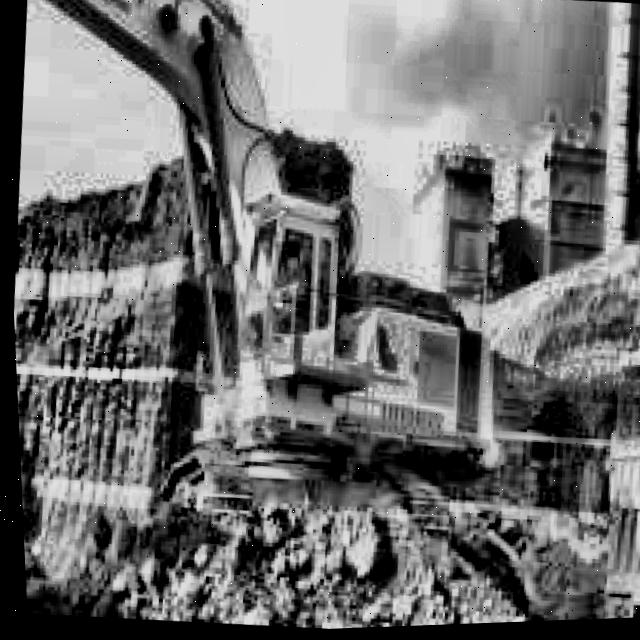excavator: (0, 0, 542, 574)
